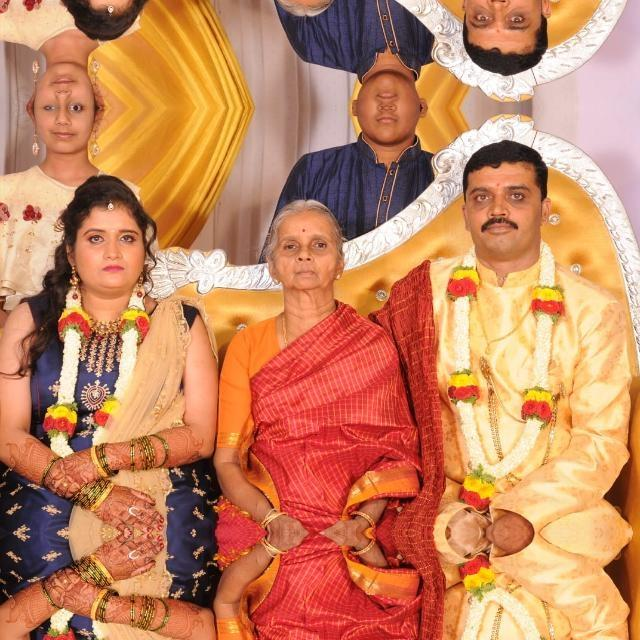person: (421, 144, 627, 532), (0, 171, 204, 521), (240, 200, 400, 532), (421, 532, 627, 640), (0, 543, 204, 640), (240, 532, 399, 640), (421, 0, 627, 70), (0, 0, 204, 43), (19, 107, 109, 197), (19, 17, 109, 107), (240, 0, 399, 14)
